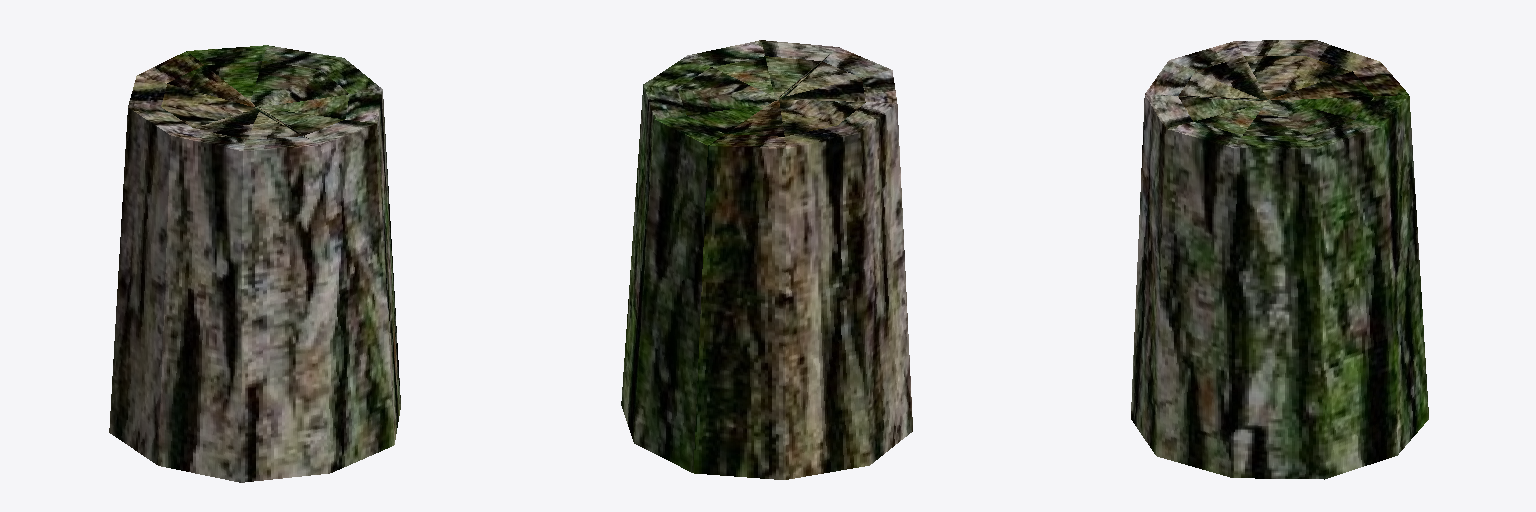
3 views of the same model, side by side, from view 1: azimuth 30°, elevation 25°; view 2: azimuth 150°, elevation 25°; view 3: azimuth 270°, elevation 25° (orthographic).
Visible parts, largest first — view 1: Tree; view 2: Tree; view 3: Tree.
Boxes of the visible parts, x1=… form: Tree: x1=109, y1=45, x2=400, y2=482; Tree: x1=621, y1=40, x2=912, y2=479; Tree: x1=1131, y1=40, x2=1428, y2=479.
Size of the model in its own units: 0.3779 by 0.4733 by 0.3929.
Materials: 1 (1 with a texture image).